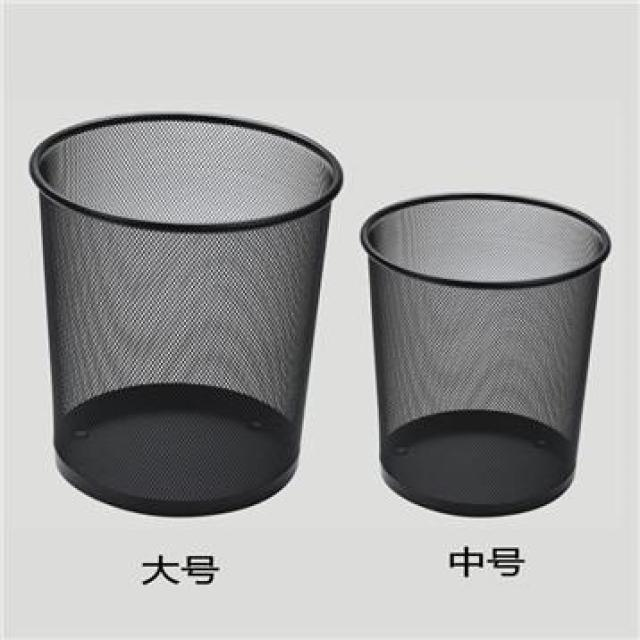dustbin: (24, 105, 350, 522), (358, 185, 616, 524)
